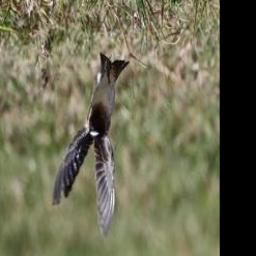Swallow: (52, 54, 129, 240)
